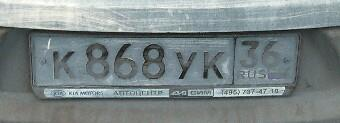license-plateSW: (29, 32, 297, 88)
